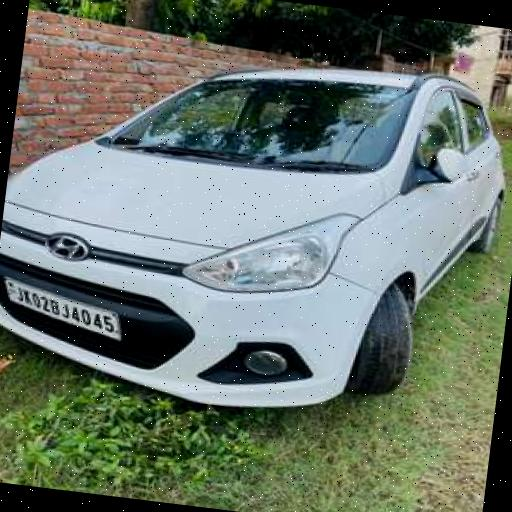license_plate`: (0, 273, 125, 336)
